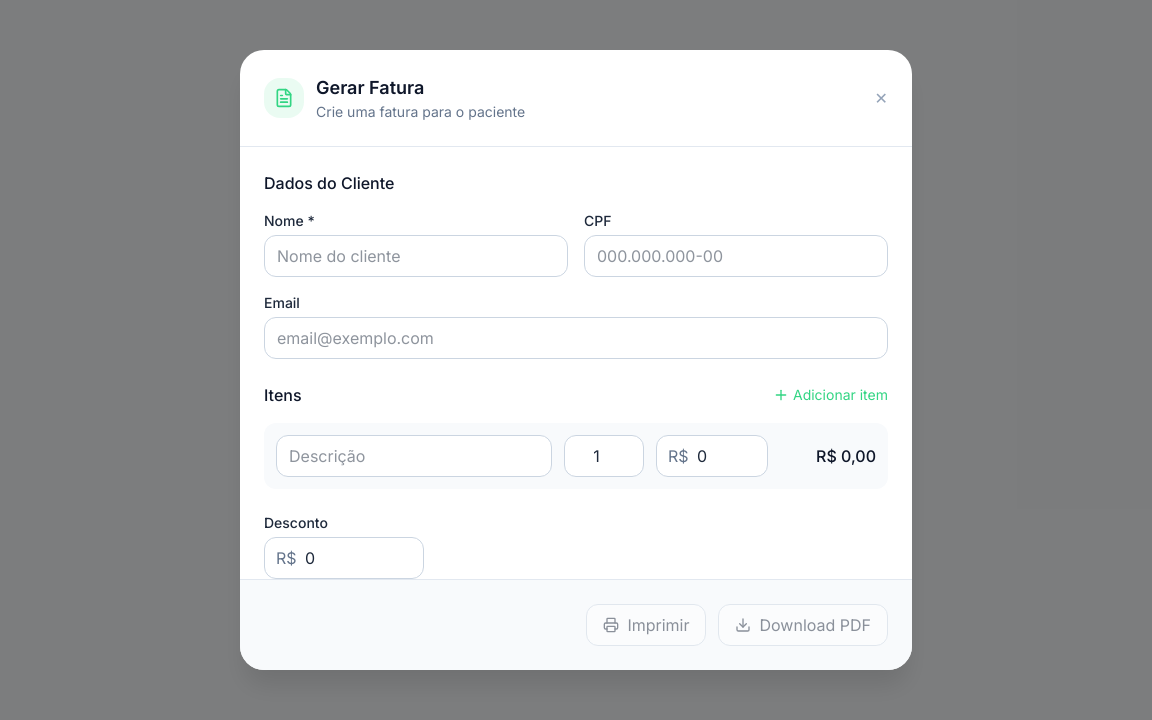
InvoiceGenerator - Actions › form validation › should enable buttons when form is valid
Type "João Silva" into the field with placeholder "Nome do cliente".
click(416, 256); type("João Silva")  # box [264,235,568,277]
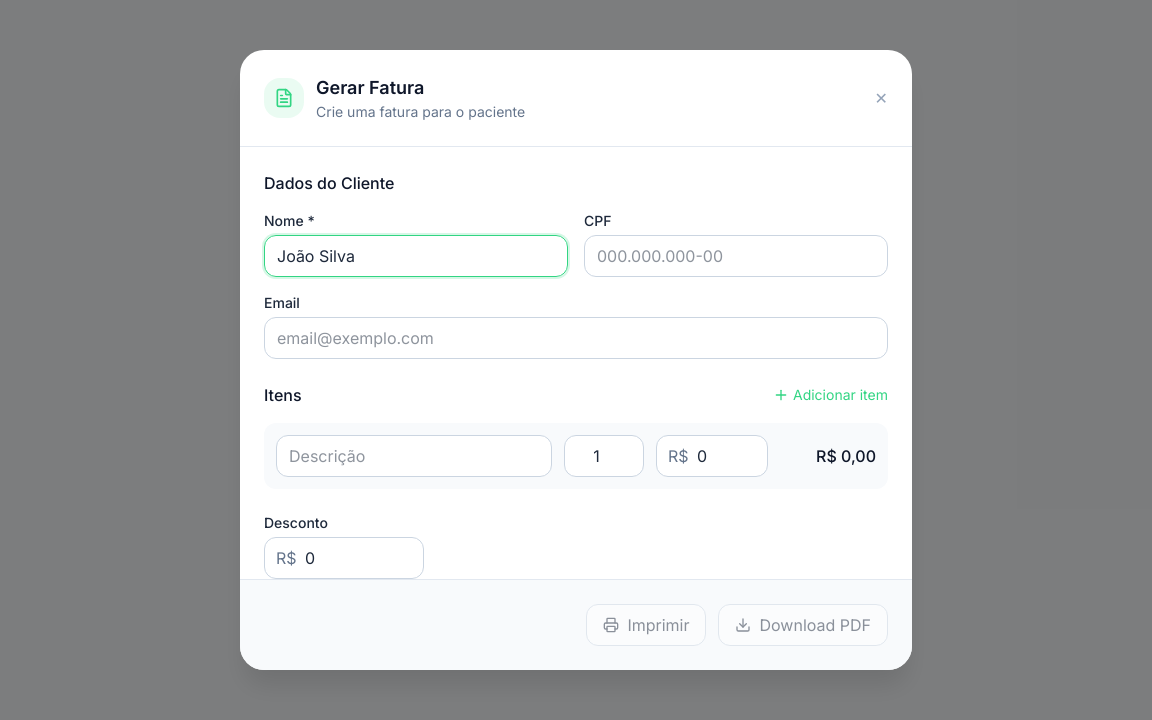
Type "Consulta" into the field with placeholder "Descrição".
click(414, 456); type("Consulta")  # box [276,435,552,477]
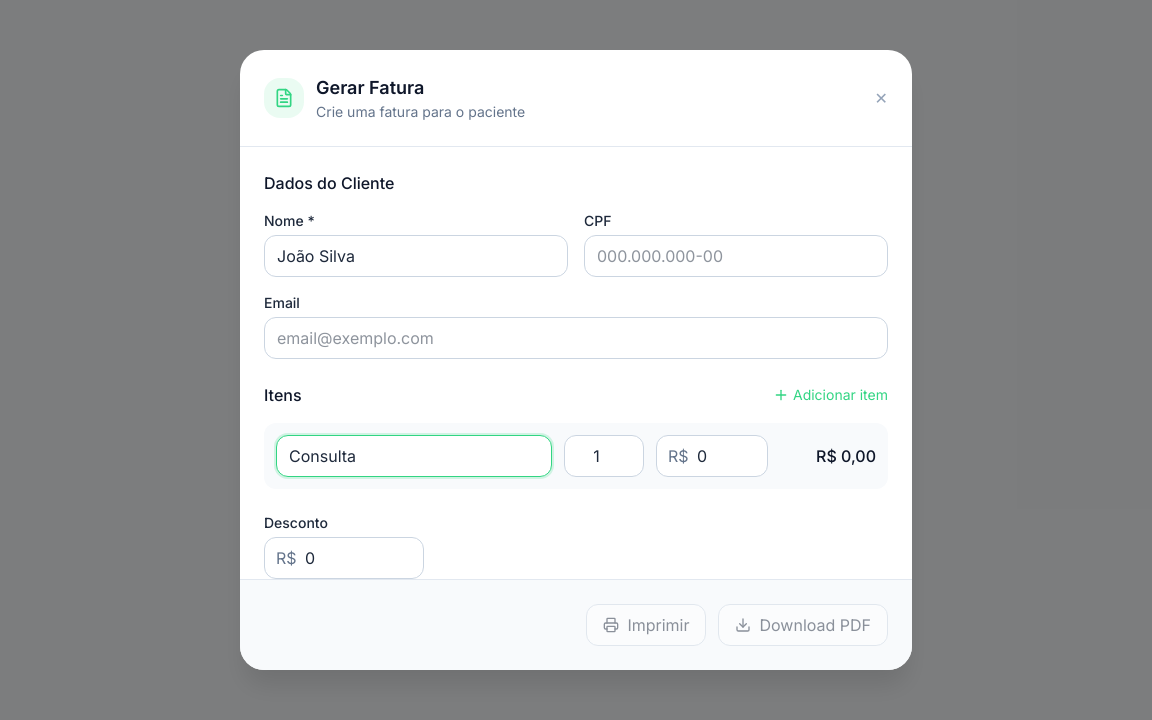
Replace the text in the 2nd number field with "100" at [712, 456], box [656,435,768,477]
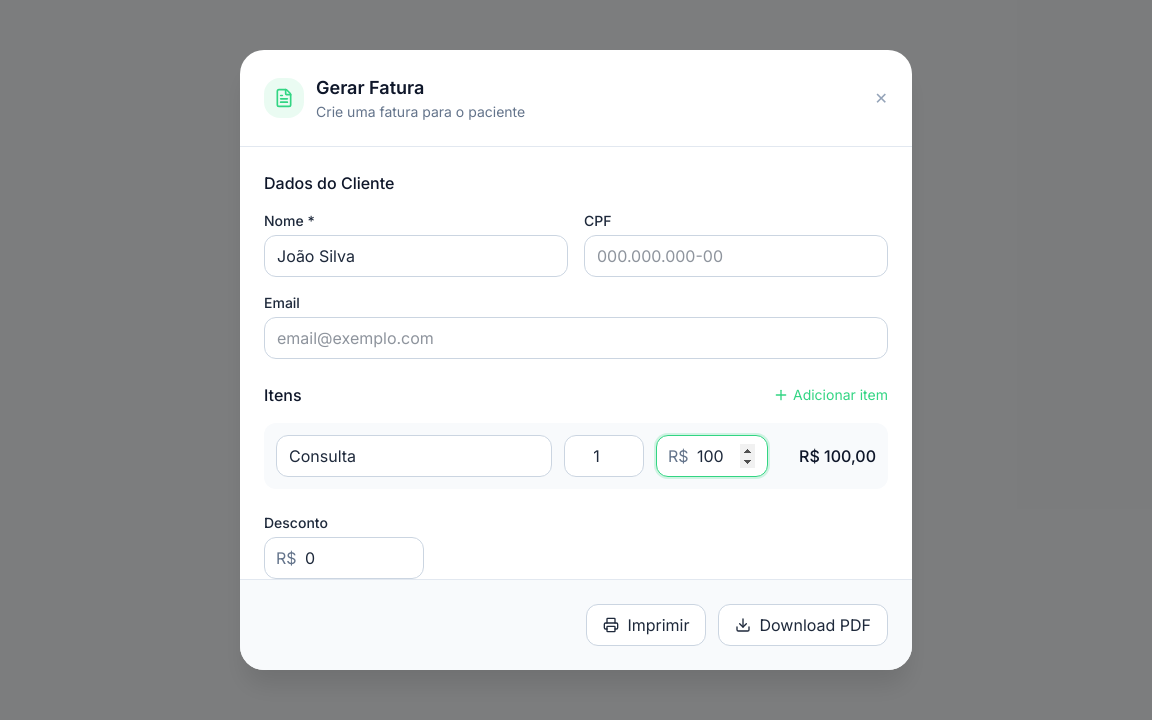
Expected: the button "Imprimir" is enabled, [586,604,706,646]
